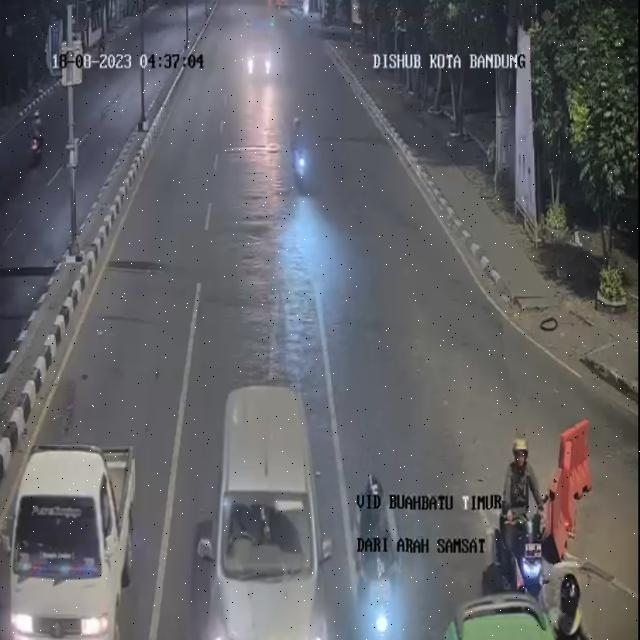cars: (203, 382, 331, 640), (3, 446, 135, 640), (439, 592, 599, 640)
motorcycle: (490, 432, 553, 610), (354, 468, 408, 640), (548, 563, 592, 638), (286, 111, 312, 201)
